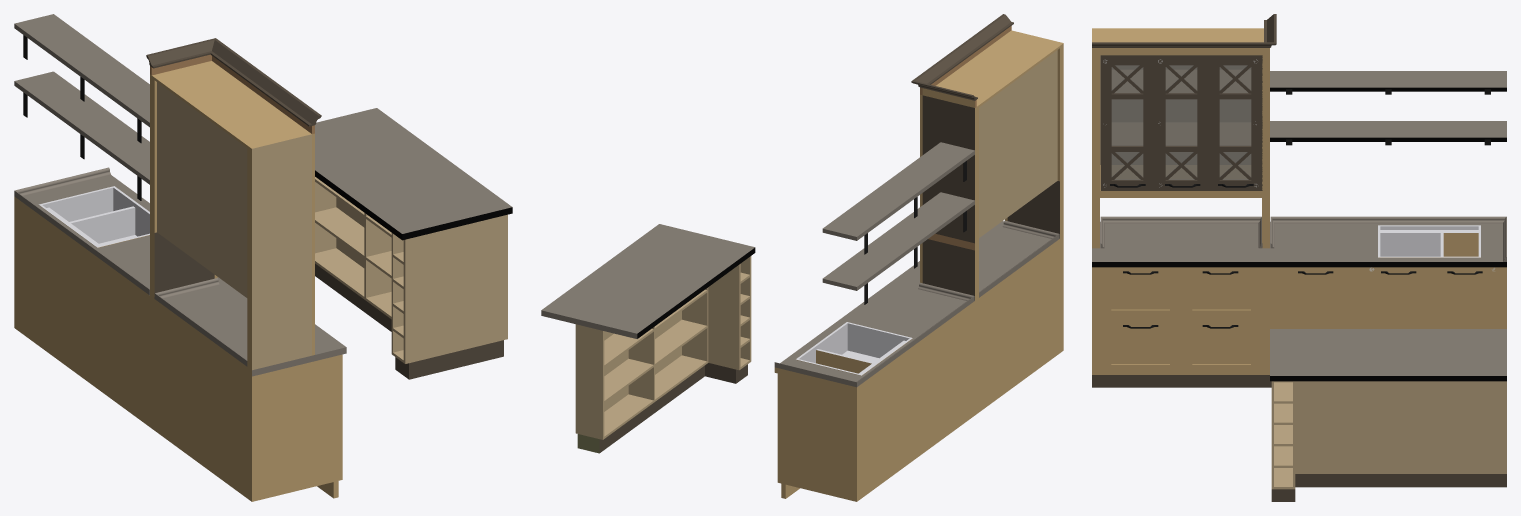
The model's file is newkitchen.glb.
The picture shows the model from 3 angles, left to right: view 1: azimuth 30°, elevation 25°; view 2: azimuth 150°, elevation 25°; view 3: azimuth 270°, elevation 25°; orthographic projection. The views are drawn at different scales.
Parts seen in each view (by area): view 1: Buffer Layer (×10), Buffer Layer 3, Ттаьяна цвув, Buffer Layer 4, Buffer Layer 1, Buffer Layer 2; view 2: Buffer Layer (×9), Buffer Layer 3, Ттаьяна цвув, Buffer Layer 4, Buffer Layer 1, Buffer Layer 2; view 3: Buffer Layer 3, Buffer Layer (×12), Ттаьяна цвув, Buffer Layer 4, Buffer Layer 1, Group1, Group3, Group2, Buffer Layer 2.
Part boxes in pixels (box(x1,y1,x2,y2)): Buffer Layer (×10): box(14, 14, 512, 379); Buffer Layer 3: box(14, 61, 342, 501); Ттаьяна цвув: box(14, 35, 403, 366); Buffer Layer 4: box(14, 61, 341, 500); Buffer Layer 1: box(23, 175, 346, 376); Buffer Layer 2: box(38, 186, 149, 247); Buffer Layer (×9): box(541, 50, 1059, 452); Buffer Layer 3: box(774, 30, 1063, 501); Ттаьяна цвув: box(575, 14, 1059, 439); Buffer Layer 4: box(776, 31, 1063, 499); Buffer Layer 1: box(780, 221, 1051, 381); Buffer Layer 2: box(796, 322, 912, 375); Buffer Layer 3: box(1092, 28, 1506, 374); Buffer Layer (×12): box(1092, 48, 1506, 489); Ттаьяна цвув: box(1092, 14, 1506, 489); Buffer Layer 4: box(1092, 28, 1506, 374); Buffer Layer 1: box(1092, 221, 1502, 261); Group1: box(1100, 55, 1154, 190); Group3: box(1154, 55, 1208, 190); Group2: box(1208, 55, 1262, 190); Buffer Layer 2: box(1378, 225, 1480, 257).
Size of the model in its own units: 2.3 by 2.34 by 2.61.
